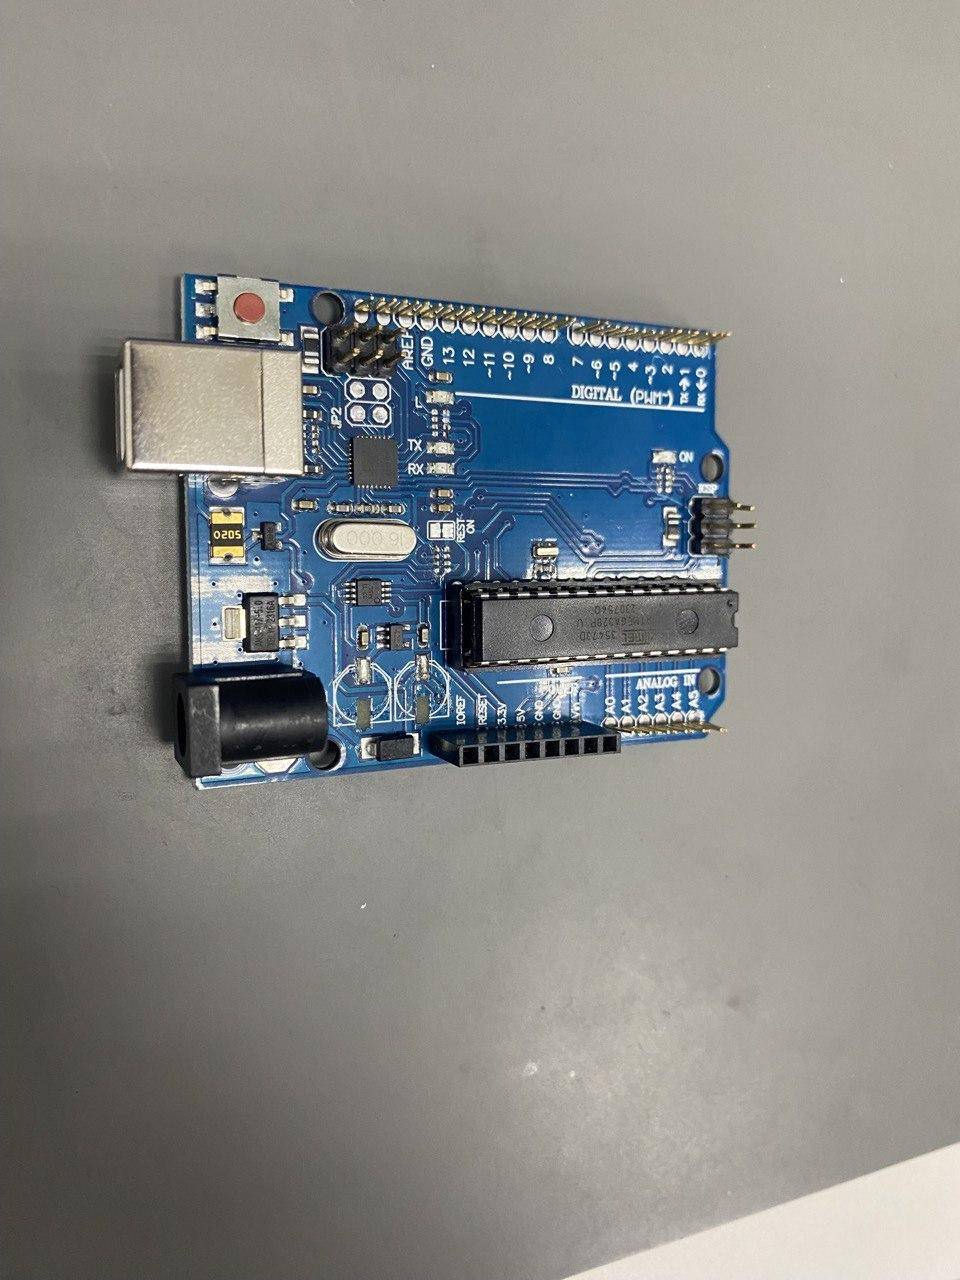ATmega328 chip: (449, 581, 739, 674)
Arduino board: (114, 272, 758, 790)
USB: (114, 338, 304, 486)
pins: (428, 720, 622, 768)
